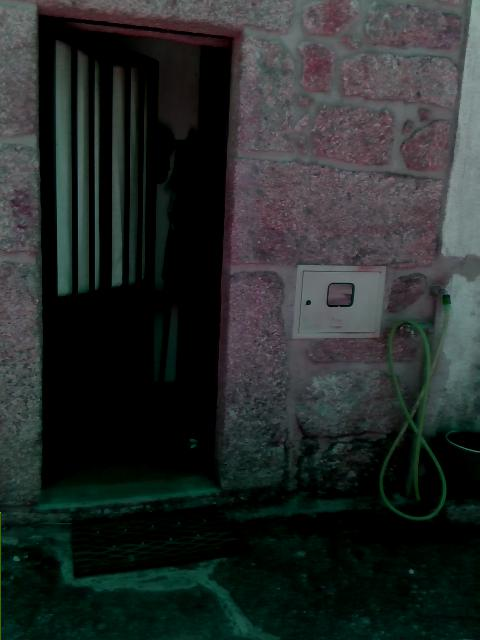semi_door: (35, 13, 233, 510)
